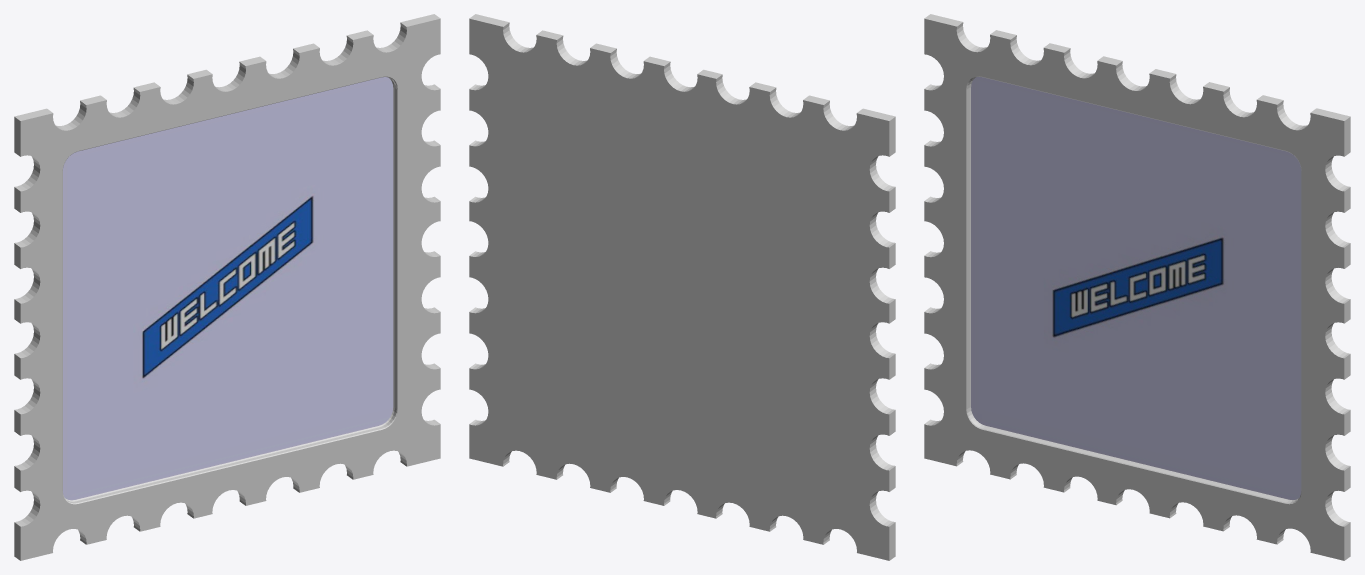
File: B_Olivia_19.glb
3 views of the same model, side by side, from view 1: azimuth 30°, elevation 25°; view 2: azimuth 150°, elevation 25°; view 3: azimuth 330°, elevation 25° (orthographic).
Visible parts, largest first — view 1: Plane021, Plane020; view 2: Plane020; view 3: Plane021, Plane020.
Boxes of the visible parts, x1,y1,x2,y2 form: Plane021: (63, 77, 393, 500); Plane020: (14, 14, 440, 560); Plane020: (469, 14, 895, 560); Plane021: (971, 77, 1301, 499); Plane020: (924, 14, 1350, 560).
Bounding box in the file's own units: 0.3 × 0.3 × 0.00781.
Materials: 2 (1 with a texture image).
